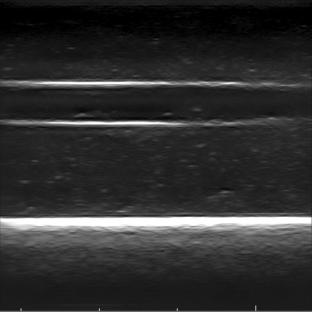vessel: (0, 76, 297, 128)
